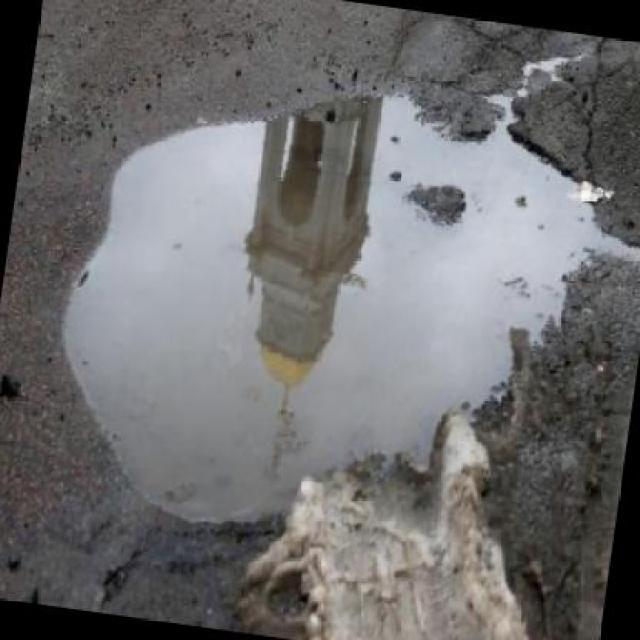pothole1: (36, 37, 638, 578)
